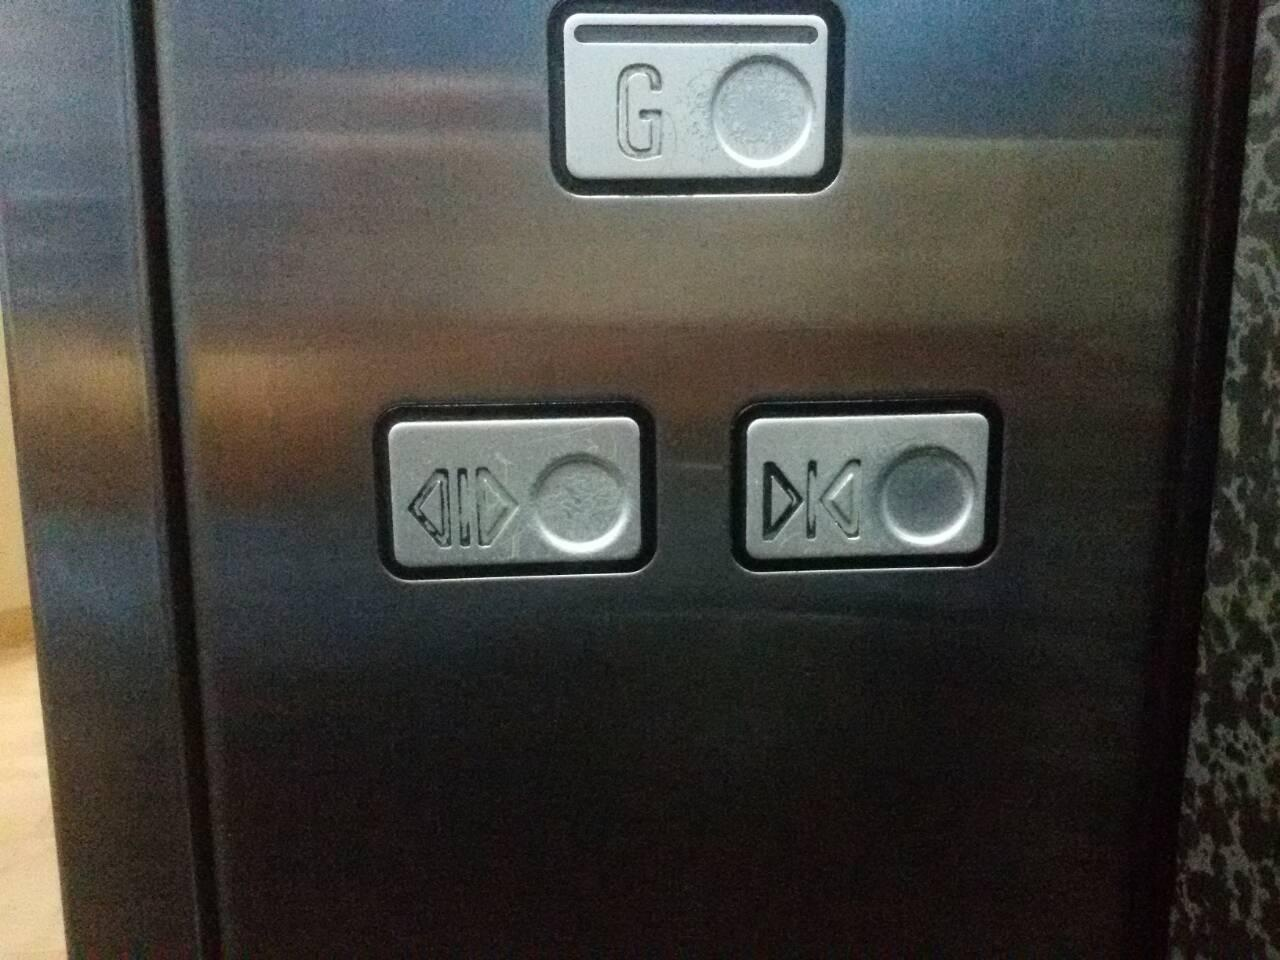G: (543, 1, 846, 204)
close: (727, 395, 1002, 576)
open: (371, 397, 656, 589)
